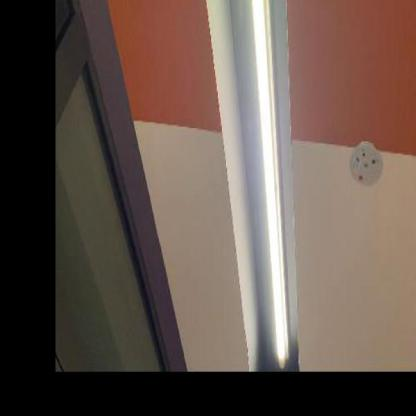light_on: (239, 0, 297, 377)
